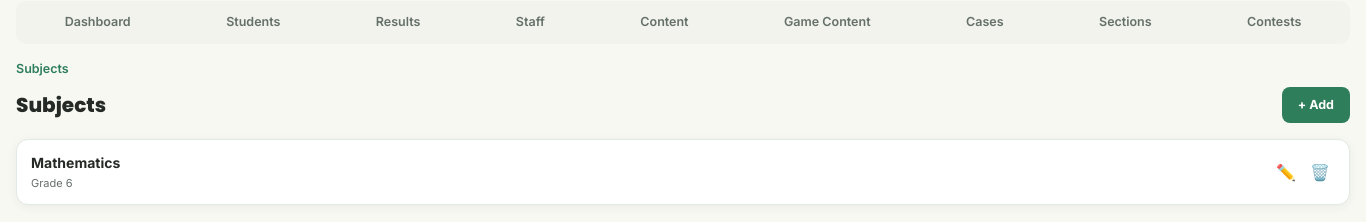
AdminContent › 'Subjects' breadcrumb resets all the way back to the subjects level
Click the text "Mathematics". click: (76, 163)
box: [31,154,120,171]
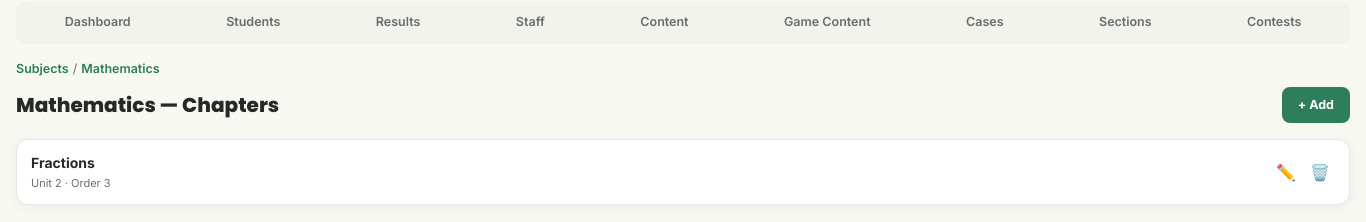
Expected: the text "Fractions" is shown, [31,154,95,171]
Click the button "Subjects". click: (42, 69)
box: [16,60,69,79]
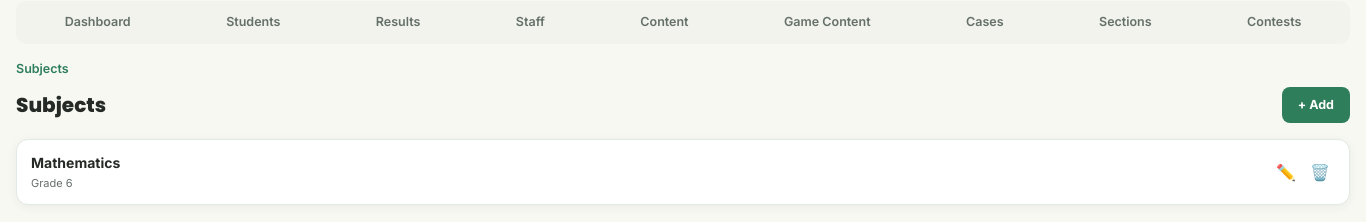
Expected: the text "Mathematics" is shown, [31,154,120,171]
